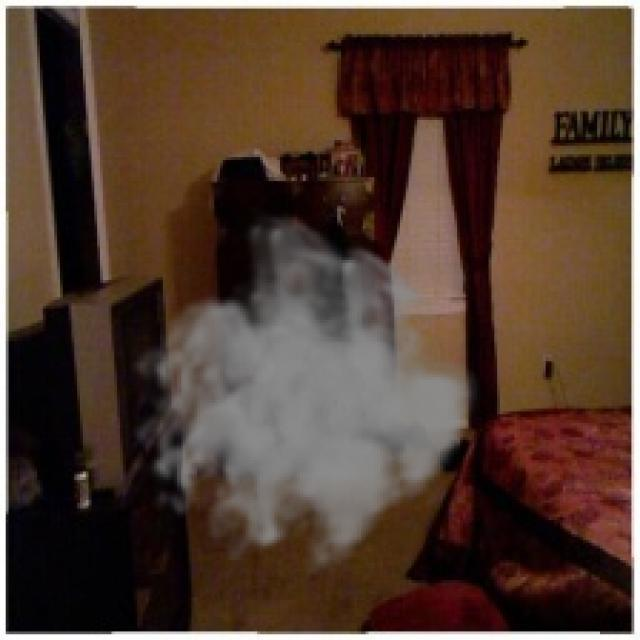Smoke: (131, 208, 480, 586)
